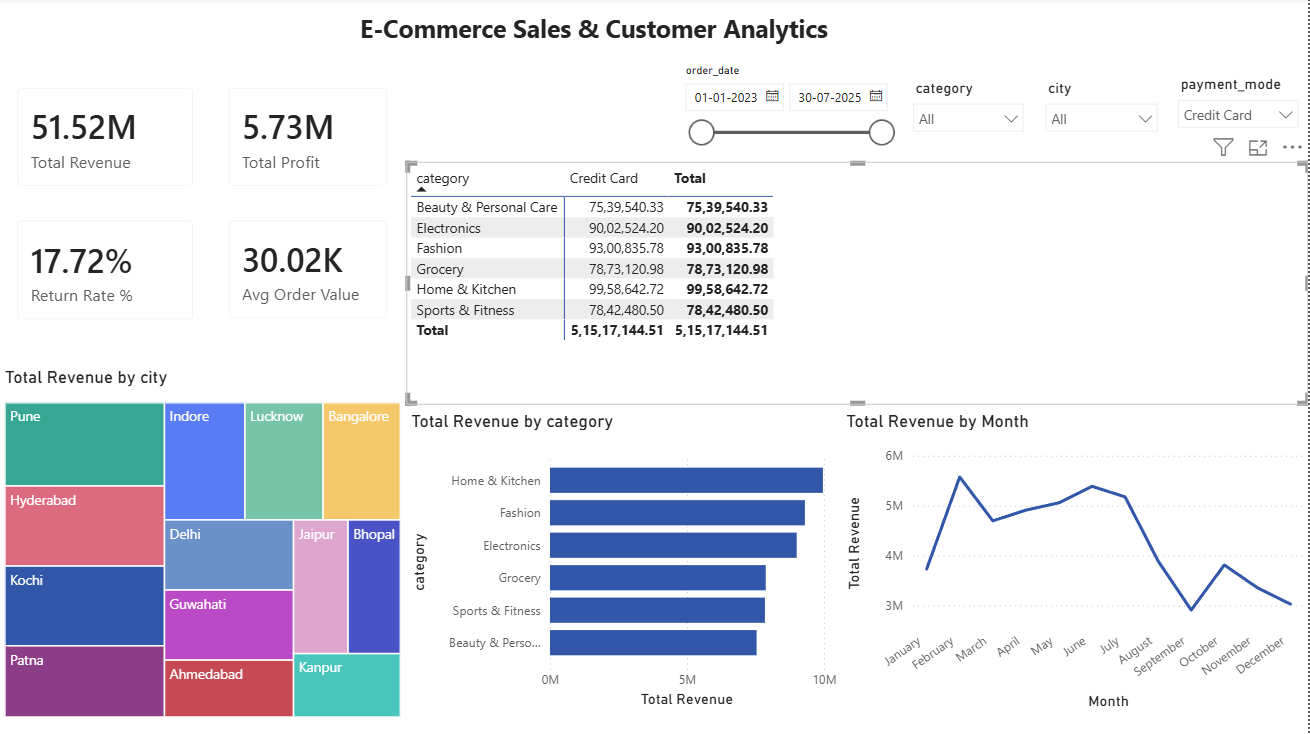

The dashboard page shown, as its layout file describes it:
{"tool":"powerbi","page":{"name":"Page 1","canvas":[1280,720],"ordinal":0},"visuals":[{"type":"cardVisual","fields":{"Data":["analytics_project orders.Total Revenue"]},"box":[0,71,206.9,131],"z":0},{"type":"cardVisual","fields":{"Data":["analytics_project orders.Total Profit"]},"box":[207.3,70.8,189.6,130.2],"z":1},{"type":"cardVisual","fields":{"Data":["analytics_project orders.Return Rate %"]},"box":[0,200.8,206.9,132.2],"z":2},{"type":"cardVisual","fields":{"Data":["analytics_project orders.Average Order Value"]},"box":[207.3,200.9,189.6,130.2],"z":3},{"type":"textbox","box":[347.3,8.6,475.2,51.8],"z":4},{"type":"lineChart","fields":{"Category":["analytics_project orders.order_date.Variation.Date Hierarchy.Month"],"Y":["analytics_project orders.Total Revenue"]},"box":[822.7,403,457.6,297],"z":5},{"type":"clusteredBarChart","fields":{"Category":["analytics_project products.category"],"Y":["analytics_project orders.Total Revenue"]},"box":[396.8,403.2,425.9,295.7],"z":6},{"type":"treemap","fields":{"Group":["analytics_project customers.city"],"Values":["analytics_project orders.Total Revenue"]},"box":[0,360.2,396.8,347.6],"z":7},{"type":"pivotTable","fields":{"Columns":["analytics_project orders.payment_mode"],"Rows":["analytics_project products.category"],"Values":["analytics_project orders.Total Revenue"]},"box":[396.8,160.5,883.4,236.3],"z":8},{"type":"slicer","fields":{"Values":["analytics_project orders.order_date"]},"box":[657.6,59.1,225.8,115.2],"z":9},{"type":"slicer","fields":{"Values":["analytics_project products.category"]},"box":[883.3,74.2,128.8,89.4],"z":10},{"type":"slicer","fields":{"Values":["analytics_project orders.city"]},"box":[1012.1,74.2,130.3,89.4],"z":11},{"type":"slicer","fields":{"Values":["analytics_project orders.payment_mode"]},"box":[1142.4,71.2,137.9,89.4],"z":12}]}

Visuals, with their boxes in screenshot pixels (x1, y1, x2, y2), scaled from the page's 1280x720 canvas onto the 1310x734 screenshot:
cardVisual - analytics_project orders.Total Revenue: l=0, t=72, r=212, b=206
cardVisual - analytics_project orders.Total Profit: l=212, t=72, r=406, b=205
cardVisual - analytics_project orders.Return Rate %: l=0, t=205, r=212, b=339
cardVisual - analytics_project orders.Average Order Value: l=212, t=205, r=406, b=338
textbox: l=355, t=9, r=842, b=62
lineChart - analytics_project orders.order_date.Variation.Date Hierarchy.Month x analytics_project orders.Total Revenue: l=842, t=411, r=1309, b=714
clusteredBarChart - analytics_project products.category x analytics_project orders.Total Revenue: l=406, t=411, r=842, b=712
treemap - analytics_project customers.city x analytics_project orders.Total Revenue: l=0, t=367, r=406, b=722
pivotTable - analytics_project orders.payment_mode x analytics_project products.category: l=406, t=164, r=1309, b=405
slicer - analytics_project orders.order_date: l=673, t=60, r=904, b=178
slicer - analytics_project products.category: l=904, t=76, r=1036, b=167
slicer - analytics_project orders.city: l=1036, t=76, r=1169, b=167
slicer - analytics_project orders.payment_mode: l=1169, t=73, r=1309, b=164
